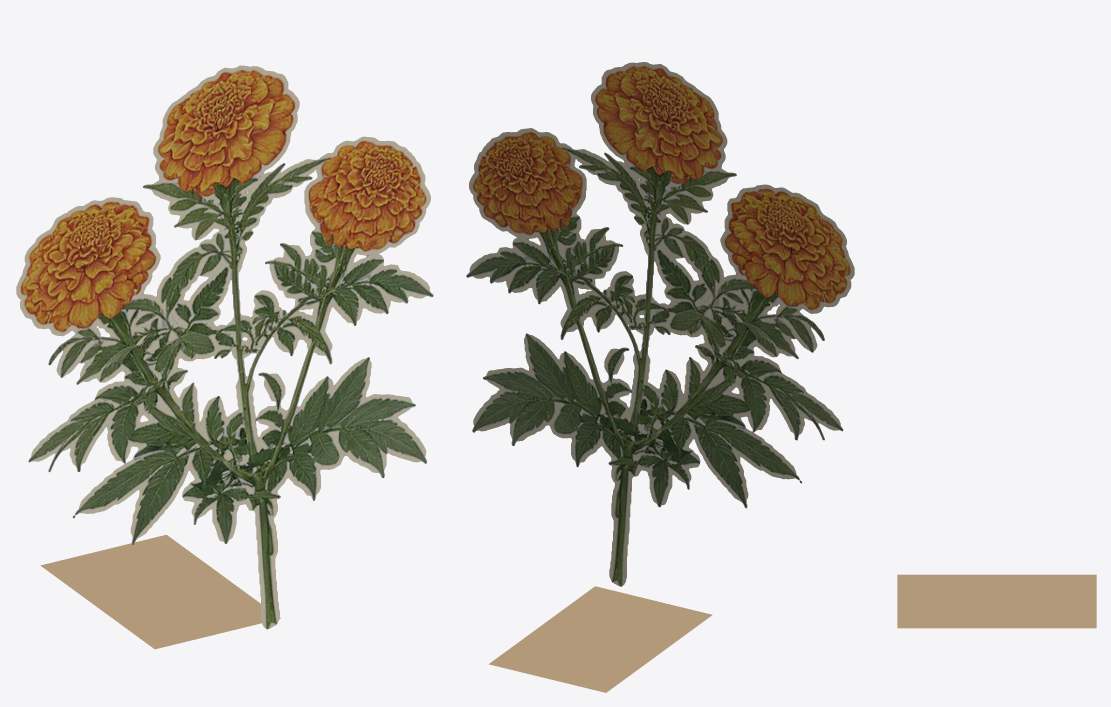
Rendered from toad-standee-marigold-sprig.glb.
3 views of the same model, side by side, from view 1: azimuth 30°, elevation 25°; view 2: azimuth 150°, elevation 25°; view 3: azimuth 270°, elevation 25° (orthographic). The views are drawn at different scales.
Parts seen in each view (by area): view 1: marigold-sprig; view 2: marigold-sprig; view 3: marigold-sprig.
Part boxes in pixels (x1=…): marigold-sprig: x1=16, y1=65, x2=433, y2=649; marigold-sprig: x1=466, y1=62, x2=854, y2=692; marigold-sprig: x1=897, y1=574, x2=1096, y2=628.
Bounding box in the file's own units: 0.07 × 0.0915 × 0.035.
1 material, 1 textured.
